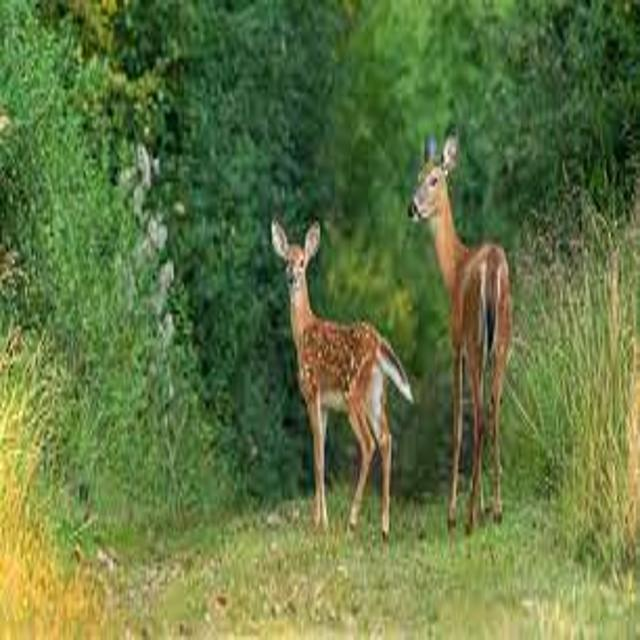deer: (383, 106, 550, 562), (234, 185, 433, 563)
